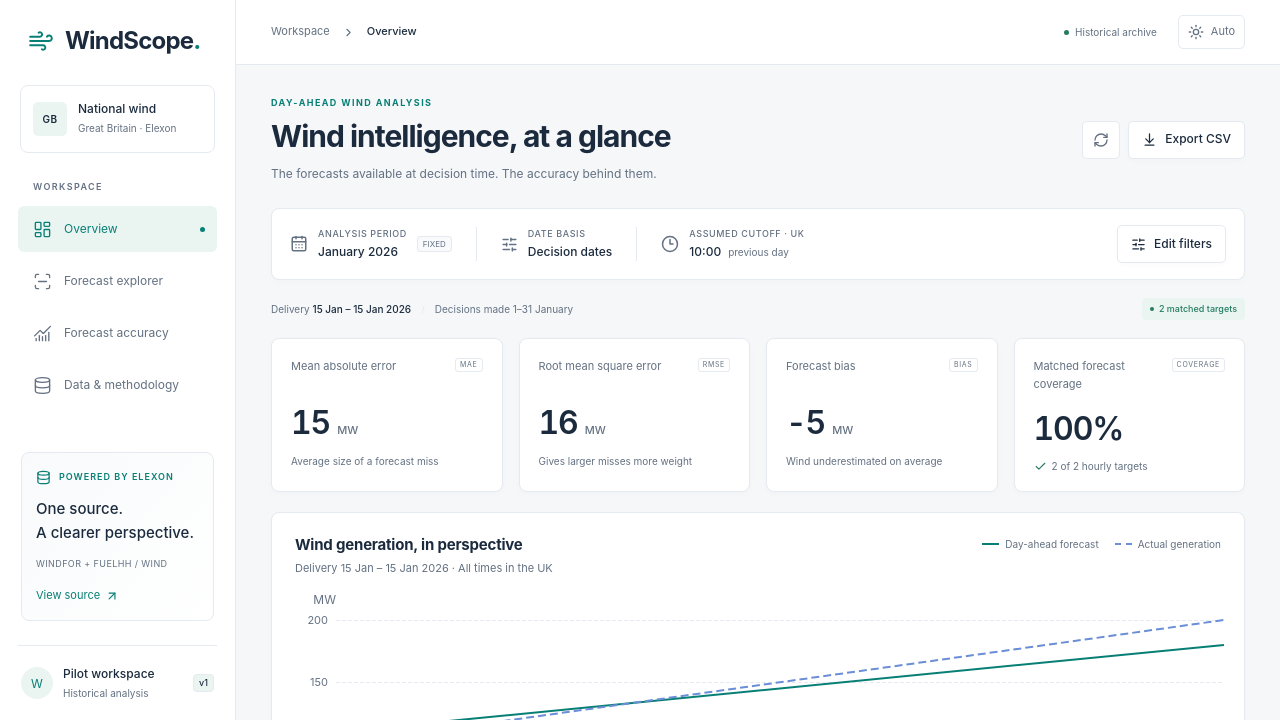
filters and exploration › navigates to data quality and shows coverage definitions
This screenshot has width=1280, height=720.
Click the link "Data & methodology" at (106, 385), box [32,376,179,395]
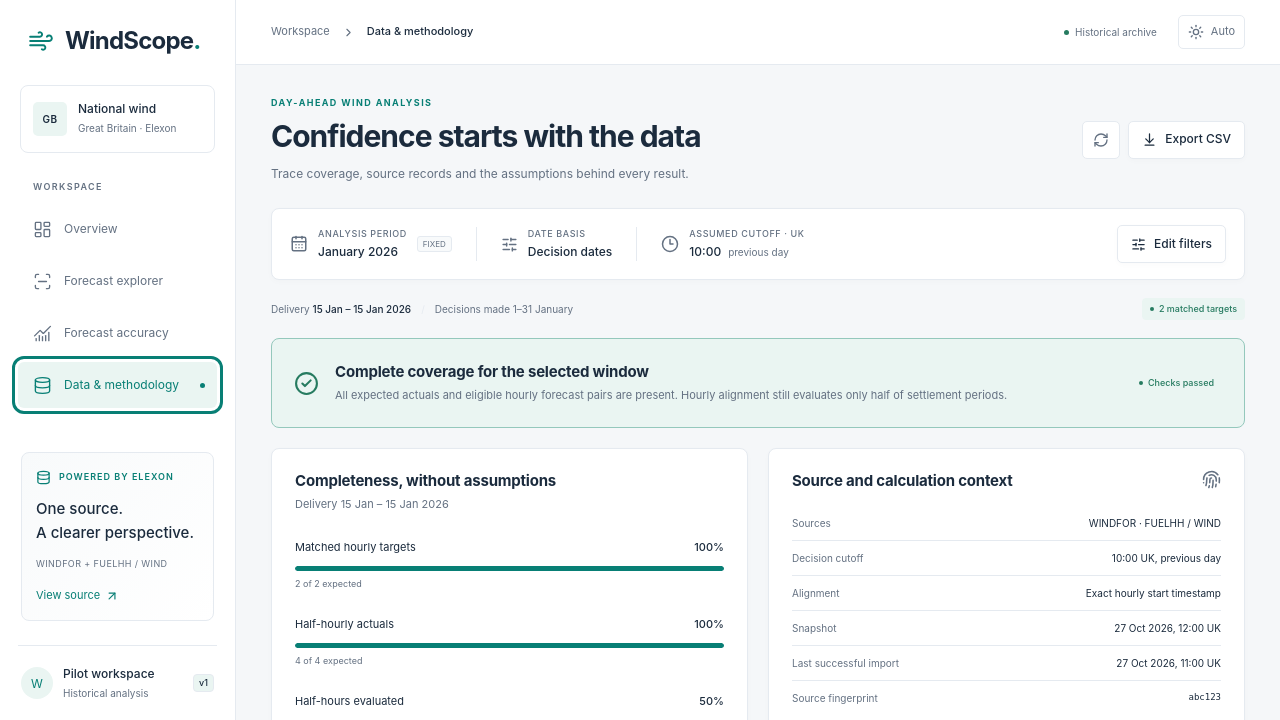
Check: the heading "Complete coverage for the selected window" is shown, box [335,362,649,382]
Check: the text "abc123" is shown, box [1188,690,1221,704]
